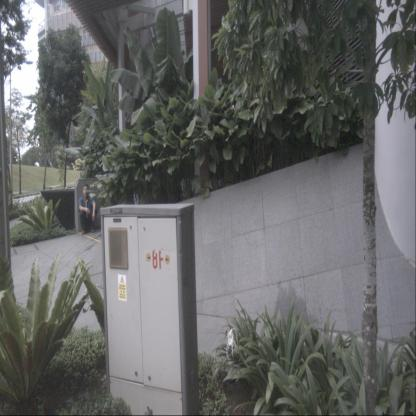human-pedestrian-adult: (78, 184, 96, 235)
